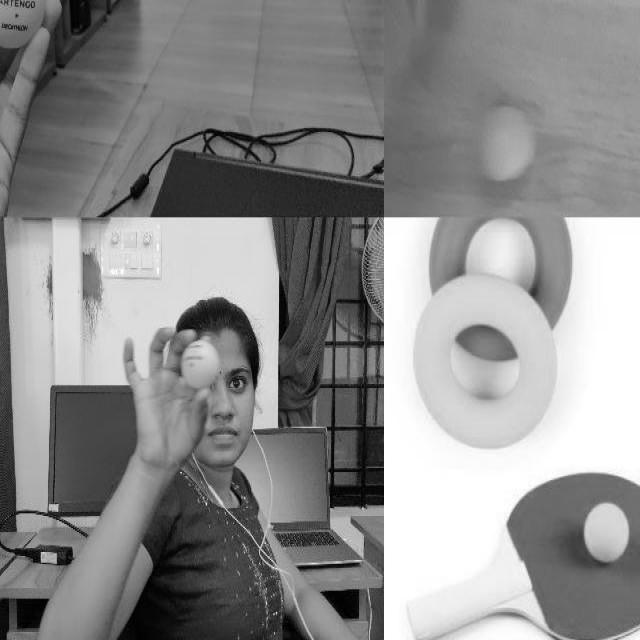ping-pong-ball: (472, 106, 532, 182), (586, 503, 628, 561), (0, 0, 47, 47), (179, 342, 217, 389)
